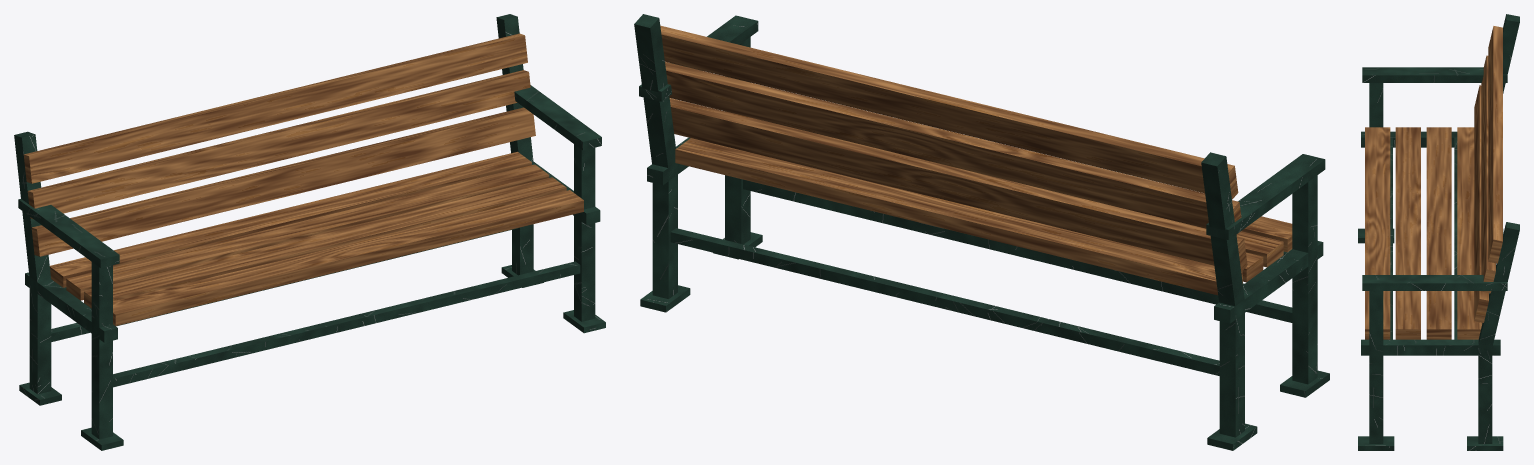
Rendered from bench.obj.
The picture shows the model from 3 angles, left to right: view 1: azimuth 30°, elevation 25°; view 2: azimuth 150°, elevation 25°; view 3: azimuth 270°, elevation 25°; orthographic projection. The views are drawn at different scales.
Parts seen in each view (by area): view 1: back_slat_2, back_slat_1, back_slat_0, seat_slat_3, seat_slat_1, seat_slat_2, seat_slat_0, brace_0, leg_front_L, leg_front_R, leg_rear_L, armrest_L (+6 smaller); view 2: back_slat_2, back_slat_0, back_slat_1, seat_slat_0, brace_1, brace_0, leg_front_L, back_post_R, back_post_L, leg_rear_L, leg_rear_R, armrest_L (+8 smaller); view 3: seat_slat_1, seat_slat_2, seat_slat_3, seat_slat_0, back_slat_2, leg_front_R, armrest_R, beam_R, armrest_L, back_slat_0, back_slat_1, back_post_R (+8 smaller).
Part boxes in pixels (left/top/right/bottom): back_slat_2: left=23, top=33, right=527, bottom=183; back_slat_1: left=27, top=70, right=530, bottom=219; back_slat_0: left=31, top=107, right=535, bottom=256; seat_slat_3: left=113, top=190, right=583, bottom=325; seat_slat_1: left=66, top=164, right=549, bottom=300; seat_slat_2: left=84, top=177, right=566, bottom=308; seat_slat_0: left=49, top=151, right=531, bottom=287; brace_0: left=113, top=261, right=580, bottom=387; leg_front_L: left=91, top=262, right=112, bottom=439; leg_front_R: left=574, top=144, right=595, bottom=321; leg_rear_L: left=29, top=277, right=51, bottom=394; armrest_L: left=18, top=199, right=119, bottom=267; back_slat_2: left=660, top=25, right=1238, bottom=199; back_slat_0: left=669, top=98, right=1247, bottom=271; back_slat_1: left=665, top=62, right=1241, bottom=235; seat_slat_0: left=675, top=138, right=1242, bottom=295; brace_1: left=670, top=228, right=1219, bottom=375; brace_0: left=743, top=179, right=1292, bottom=322; leg_front_L: left=1292, top=175, right=1317, bottom=384; back_post_R: left=634, top=14, right=676, bottom=171; back_post_L: left=1201, top=152, right=1244, bottom=306; leg_rear_L: left=1219, top=303, right=1244, bottom=437; leg_rear_R: left=652, top=163, right=677, bottom=298; armrest_L: left=1206, top=154, right=1325, bottom=239; seat_slat_1: left=1426, top=127, right=1451, bottom=339; seat_slat_2: left=1395, top=127, right=1420, bottom=339; seat_slat_3: left=1365, top=127, right=1390, bottom=339; seat_slat_0: left=1457, top=127, right=1482, bottom=339; back_slat_2: left=1488, top=26, right=1502, bottom=263; leg_front_R: left=1369, top=291, right=1383, bottom=443; armrest_R: left=1362, top=275, right=1507, bottom=290; beam_R: left=1361, top=339, right=1500, bottom=355; armrest_L: left=1362, top=67, right=1507, bottom=82; back_slat_0: left=1474, top=85, right=1488, bottom=322; back_slat_1: left=1481, top=55, right=1495, bottom=293; back_post_R: left=1478, top=222, right=1519, bottom=348.
Bounding box in the file's own units: 1.84 × 0.8747 × 0.5793.
1 material, 1 textured.
